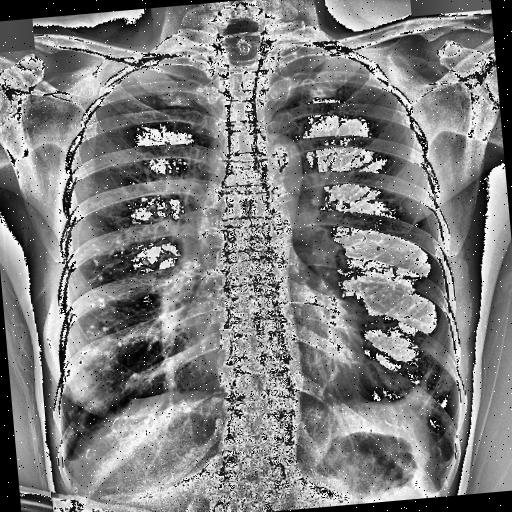10- Pleural effusion: (423, 429, 464, 481), (50, 438, 85, 486), (434, 451, 452, 480), (62, 444, 77, 470)
11- Pleural thickening: (396, 366, 440, 420), (399, 364, 438, 420), (423, 429, 464, 481), (50, 438, 85, 486), (56, 445, 88, 481), (434, 451, 452, 480), (62, 444, 77, 470)
13- Pulmonary fibrosis: (96, 286, 136, 306)
2- Calcification: (68, 237, 162, 390), (66, 223, 134, 369), (374, 234, 420, 280), (374, 238, 426, 275), (274, 144, 292, 173)
8- Nodule-Mass: (68, 236, 160, 384), (429, 234, 440, 253), (388, 266, 400, 276), (374, 244, 382, 252), (102, 184, 109, 190), (415, 256, 420, 262)
9- Other lesion: (68, 237, 162, 390), (64, 389, 166, 458), (394, 360, 440, 420), (396, 366, 440, 420), (374, 234, 420, 280)
